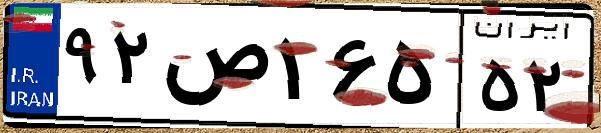1: (270, 28, 330, 110)
2: (525, 38, 570, 115), (110, 28, 158, 98)
5: (385, 28, 445, 110), (475, 38, 525, 113)
6: (330, 28, 385, 110)
9: (57, 26, 110, 100)
ص: (158, 20, 270, 120)
